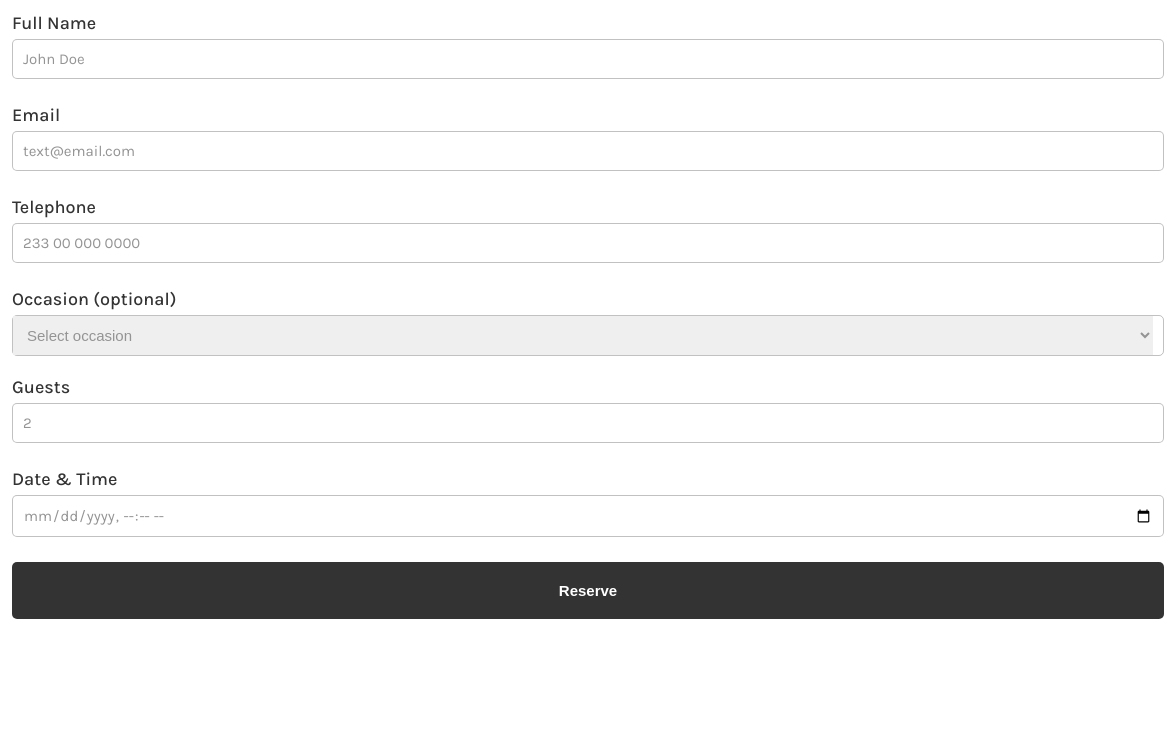
Test: Testing Reservation Form › should test full name
Click the button with test id "submit-button".
click(588, 590)  # box x1=12 y1=562 x2=1164 y2=619
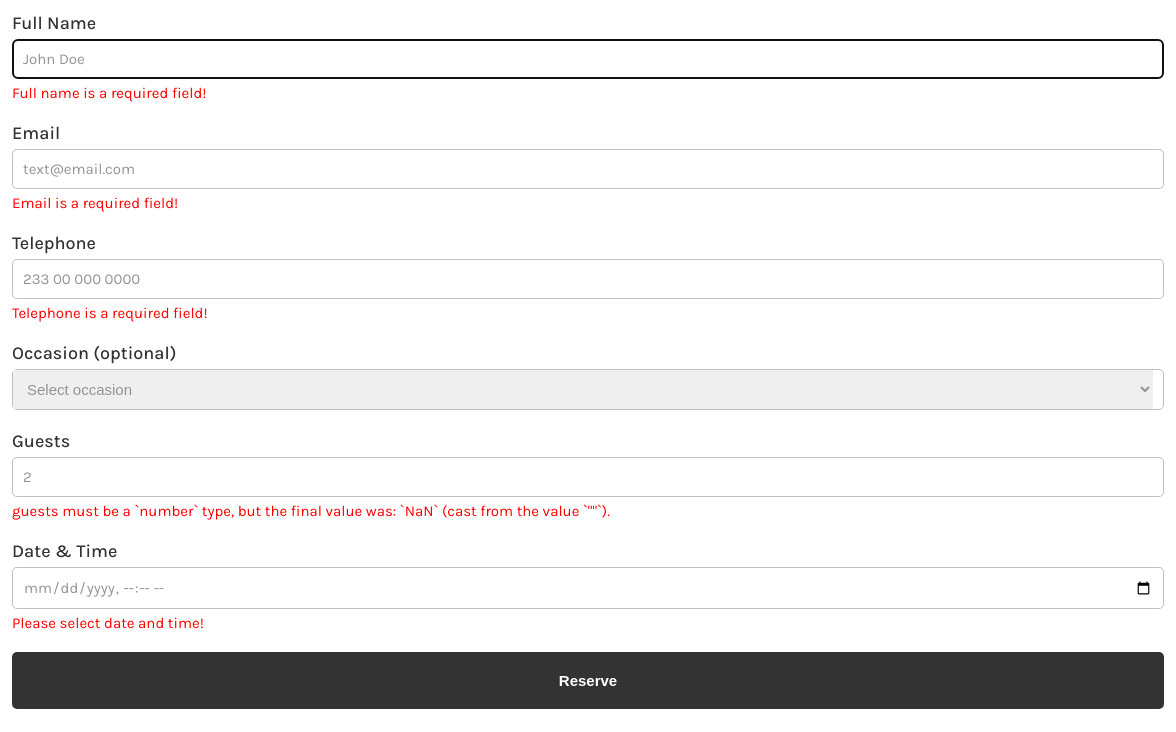
Expected: the text with test id "full-name-error" reads "Full name is a required field!", x1=12 y1=84 x2=206 y2=102
